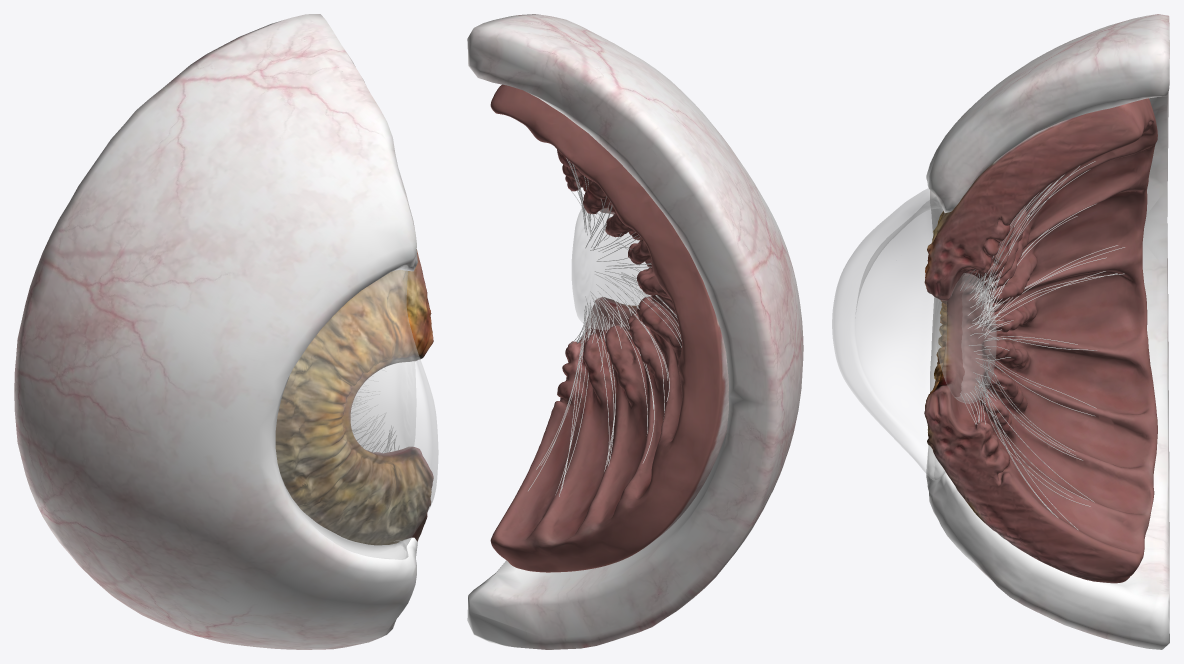
The model's file is eye_model_2.glb.glb.
The picture shows the model from 3 angles, left to right: view 1: azimuth 30°, elevation 25°; view 2: azimuth 150°, elevation 25°; view 3: azimuth 270°, elevation 25°; orthographic projection. The views are drawn at different scales.
Parts seen in each view (by area): view 1: model_4, model_6, model_3, model_5; view 2: model_4, model_3, model_5, model_1, model_0, model_2; view 3: model_3, model_4, model_6, model_5, model_1, model_0, model_2.
Boxes of the visible parts, bbox=[...] form: model_4: bbox=[14, 14, 417, 649]; model_6: bbox=[276, 265, 438, 559]; model_3: bbox=[275, 249, 433, 545]; model_5: bbox=[351, 361, 416, 453]; model_4: bbox=[467, 14, 803, 649]; model_3: bbox=[490, 84, 728, 572]; model_5: bbox=[572, 208, 650, 329]; model_1: bbox=[528, 232, 681, 496]; model_0: bbox=[566, 158, 678, 326]; model_2: bbox=[576, 196, 639, 348]; model_3: bbox=[924, 98, 1157, 583]; model_4: bbox=[926, 14, 1169, 649]; model_6: bbox=[832, 188, 944, 479]; model_5: bbox=[936, 273, 996, 403]; model_1: bbox=[960, 161, 1124, 529]; model_0: bbox=[960, 161, 1124, 335]; model_2: bbox=[962, 178, 1060, 423].
Bounding box in the file's own units: 260 × 492 × 249.
4 materials, 2 textured.
